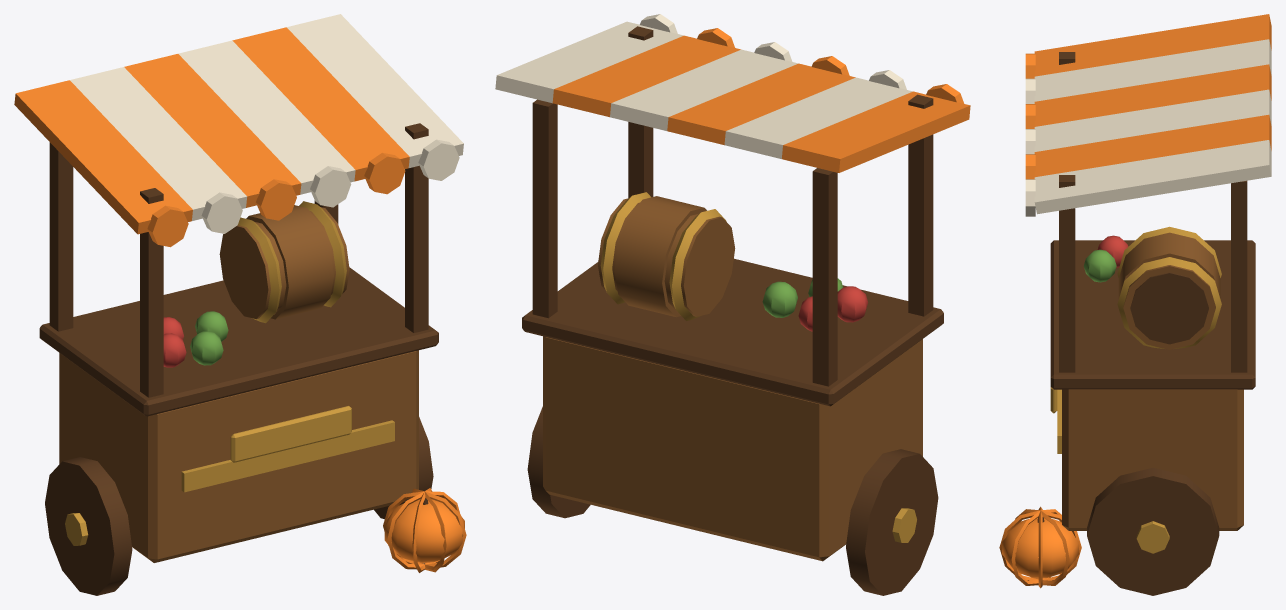
File: PR_Station_SezonHasat_T2.fbx
3 views of the same model, side by side, from view 1: azimuth 30°, elevation 25°; view 2: azimuth 150°, elevation 25°; view 3: azimuth 270°, elevation 25° (orthographic). The views are drawn at different scales.
Visible parts, largest first — view 1: PR_Station_SezonHasat_T2; view 2: PR_Station_SezonHasat_T2; view 3: PR_Station_SezonHasat_T2.
Part boxes in pixels (left/top/right/bottom): PR_Station_SezonHasat_T2: left=14, top=14, right=466, bottom=595; PR_Station_SezonHasat_T2: left=495, top=14, right=970, bottom=595; PR_Station_SezonHasat_T2: left=999, top=14, right=1271, bottom=595.
Size of the model in its own units: 1.1 by 1.46 by 0.8226.
Materials: 1 (1 with a texture image).
